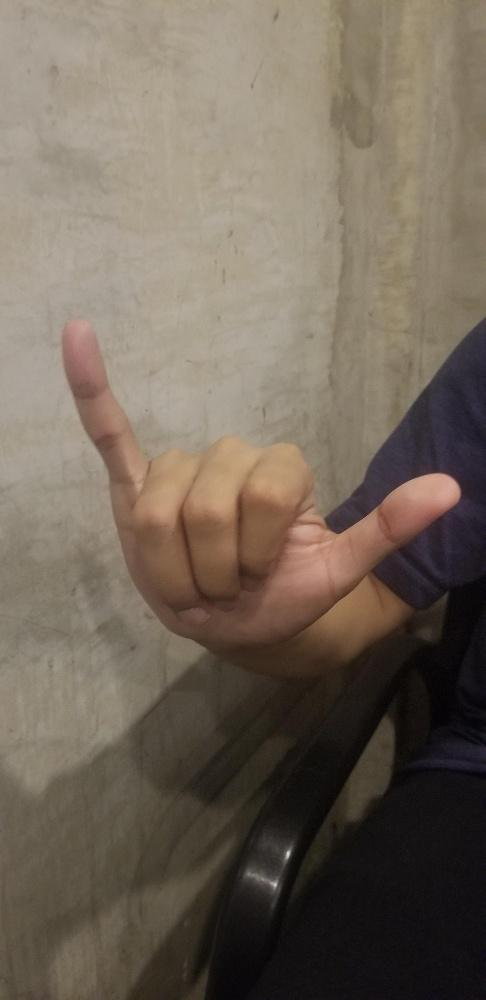y: (59, 313, 460, 648)
